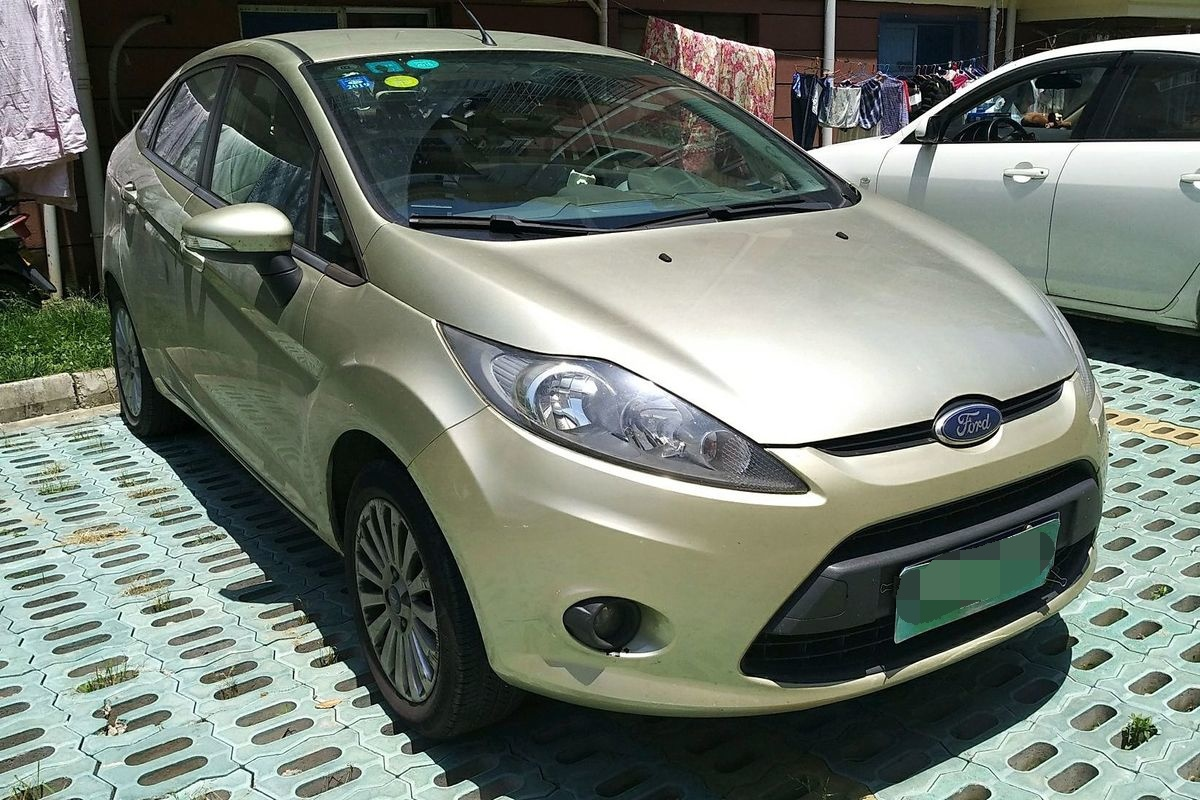family sedan: (81, 32, 1110, 749)
